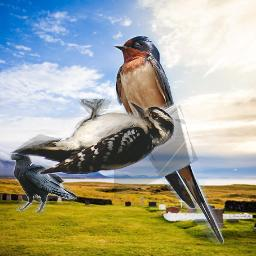Crow: (9, 152, 77, 213)
Swallow: (114, 34, 224, 244)
Woodpecker: (10, 99, 185, 181)
